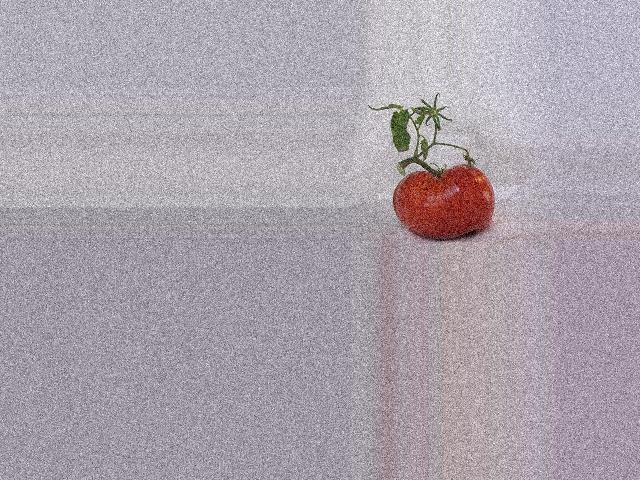tomato: (392, 164, 495, 240)
